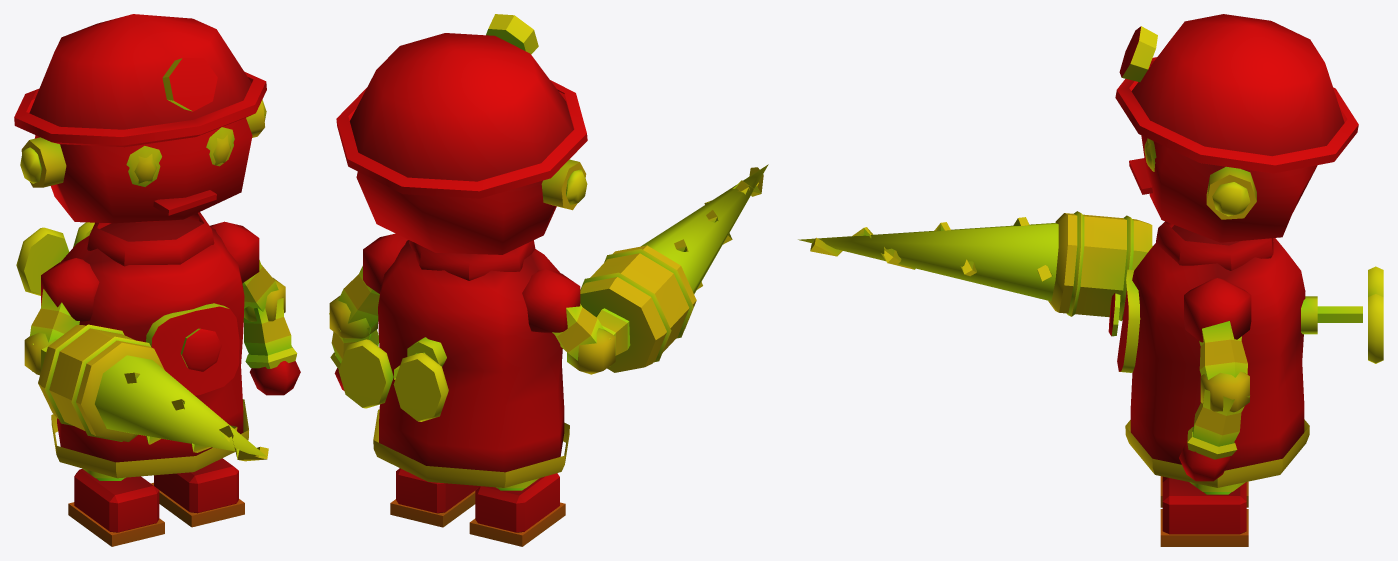
Rendered from RobotDriller_LOD1.glb.
The picture shows the model from 3 angles, left to right: view 1: azimuth 30°, elevation 25°; view 2: azimuth 150°, elevation 25°; view 3: azimuth 270°, elevation 25°; orthographic projection.
Parts seen in each view (by area): view 1: RobotDriller_LOD1; view 2: RobotDriller_LOD1; view 3: RobotDriller_LOD1.
Boxes of the visible parts, x1,y1,x2,y2 form: RobotDriller_LOD1: (14, 14, 300, 546); RobotDriller_LOD1: (329, 14, 768, 546); RobotDriller_LOD1: (798, 14, 1383, 546).
Size of the model in its own units: 0.5329 by 0.8338 by 0.9076.
